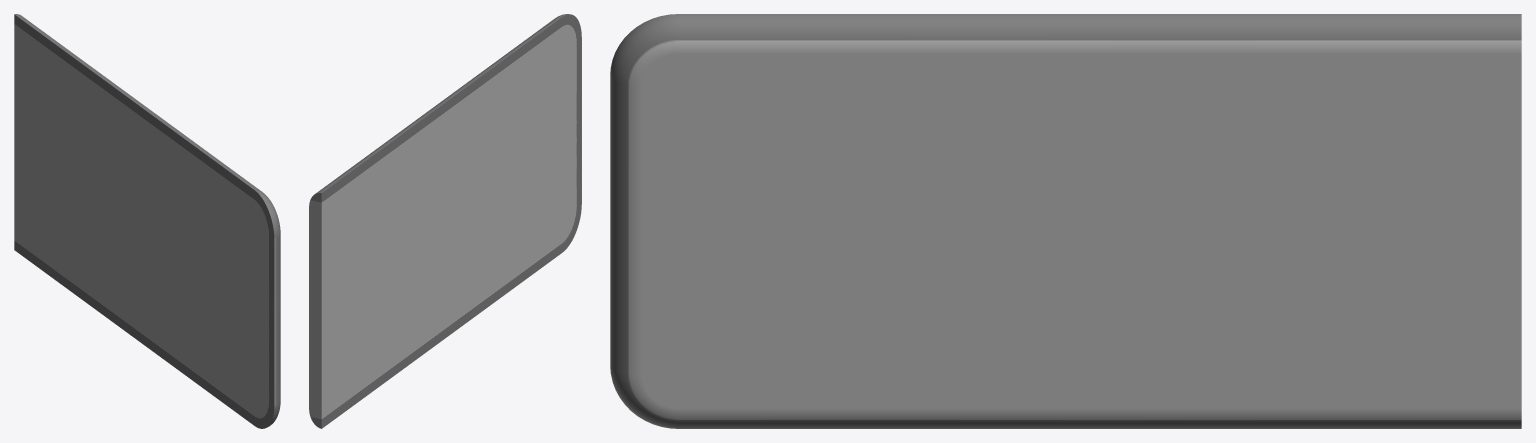
Rendered from mesh_SB_endcap_test_A.fbx.
3 renders of one model, left to right at view 1: azimuth 30°, elevation 25°; view 2: azimuth 150°, elevation 25°; view 3: azimuth 270°, elevation 25°, orthographic. The views are drawn at different scales.
Parts seen in each view (by area): view 1: mesh_SB_endcap_test_A; view 2: mesh_SB_endcap_test_A; view 3: mesh_SB_endcap_test_A.
Boxes of the visible parts, <box> form: mesh_SB_endcap_test_A: <box>14,14,280,428</box>; mesh_SB_endcap_test_A: <box>309,14,581,428</box>; mesh_SB_endcap_test_A: <box>610,14,1521,428</box>.
Bounding box in the file's own units: 11.18 × 200 × 400.
